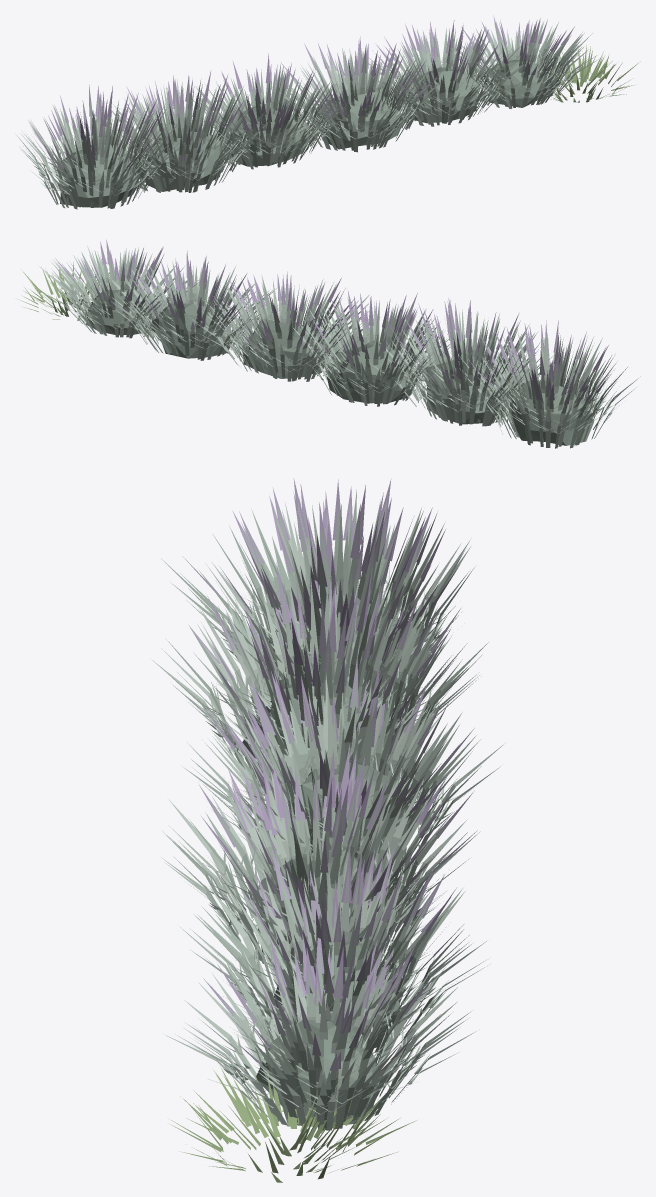
Rendered from lavanda_cantero.glb.
3 views of the same model, one above another, from view 1: azimuth 30°, elevation 25°; view 2: azimuth 150°, elevation 25°; view 3: azimuth 270°, elevation 25° (orthographic). The views are drawn at different scales.
Visible parts, largest first — view 1: Macizo_Lavandas; view 2: Macizo_Lavandas; view 3: Macizo_Lavandas.
Part boxes in pixels (x1,y1,x2,y2): Macizo_Lavandas: (17, 15, 640, 209); Macizo_Lavandas: (20, 239, 640, 448); Macizo_Lavandas: (150, 478, 503, 1182).
Bounding box in the file's own units: 5.16 × 0.7924 × 1.33.
